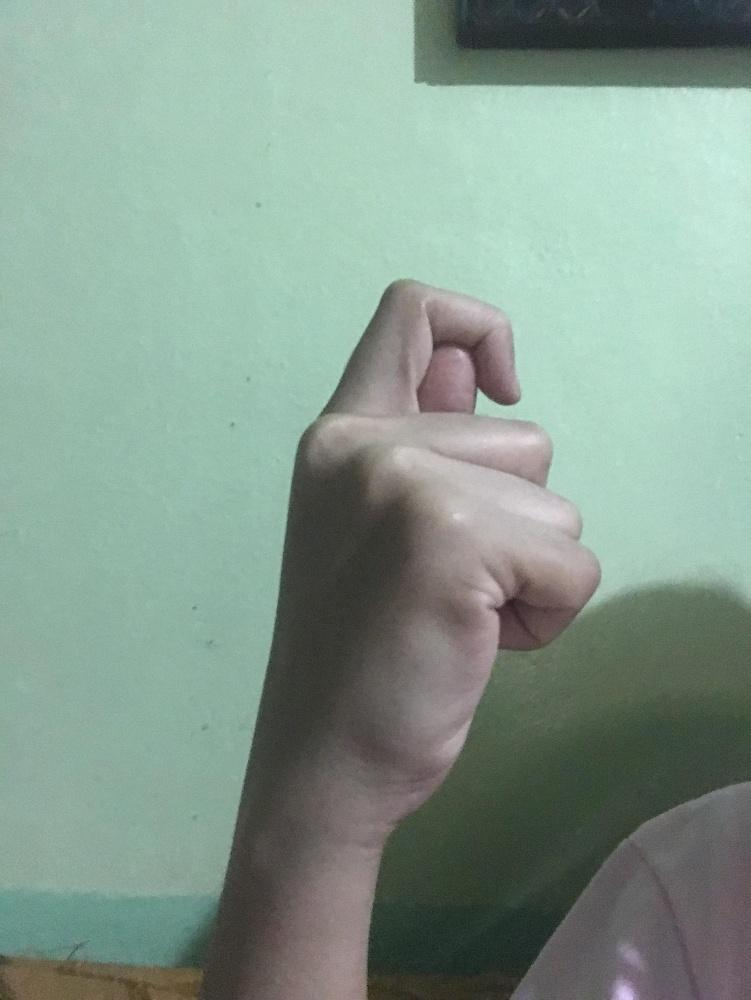t: (269, 271, 608, 821)
